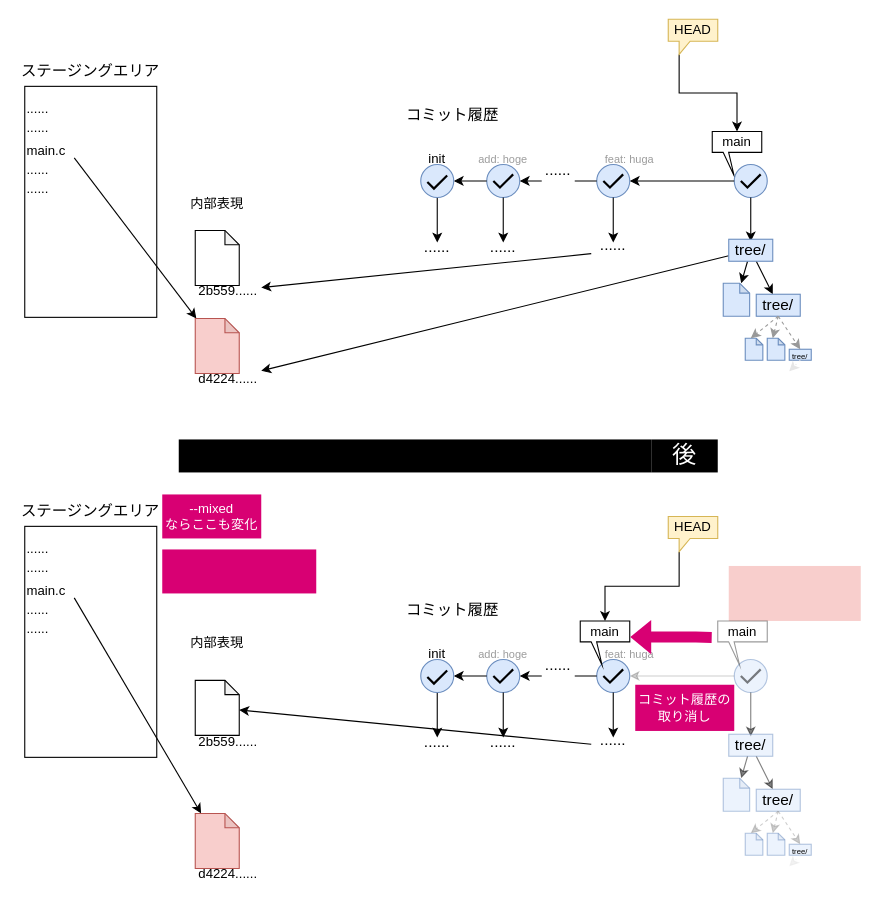
Some shapes in this 879 by 910 pixel diagram are drawn without their labels. The centre of each missing label's shape, as x and y in pixels:
--hard ならワーキングツリーも: pixel 239 571
git reset --soft HEAD~: pixel 414 455
参照のないコミット => いずれ消える: pixel 794 592
